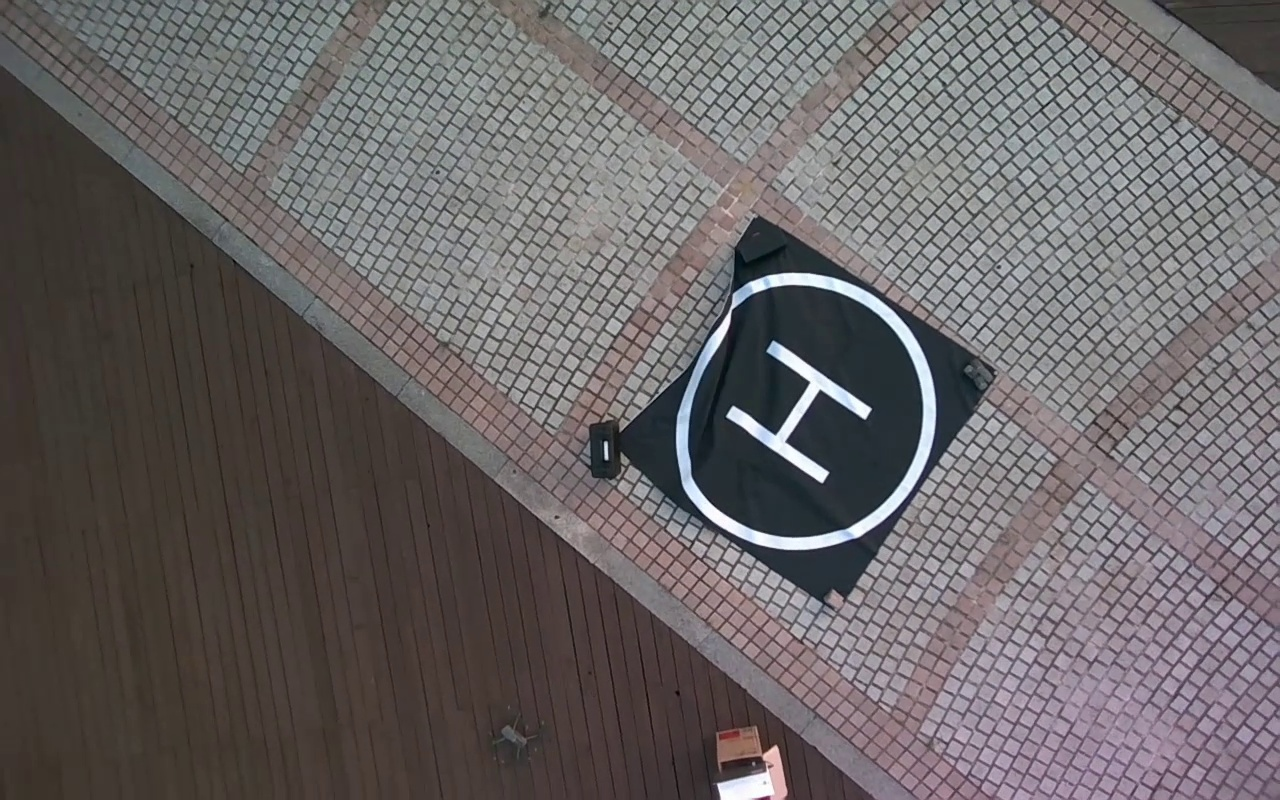H: (725, 337, 873, 489)
